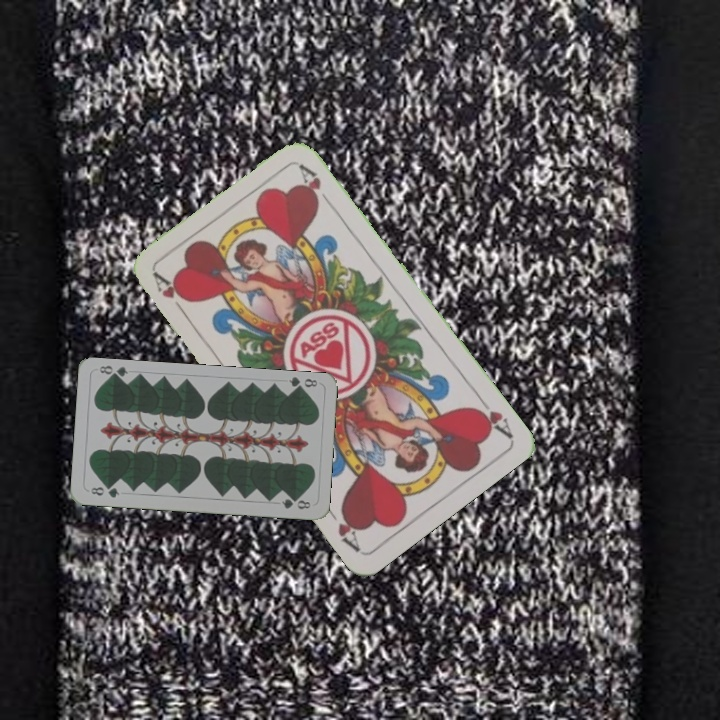G8: (285, 373, 320, 394), (87, 482, 122, 500)
HA: (468, 389, 515, 440), (150, 269, 191, 320)
